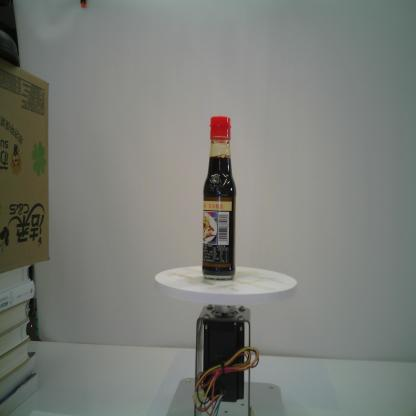Seasoner: (202, 115, 236, 280)
